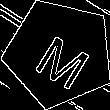M_NE: (26, 20, 93, 87)
